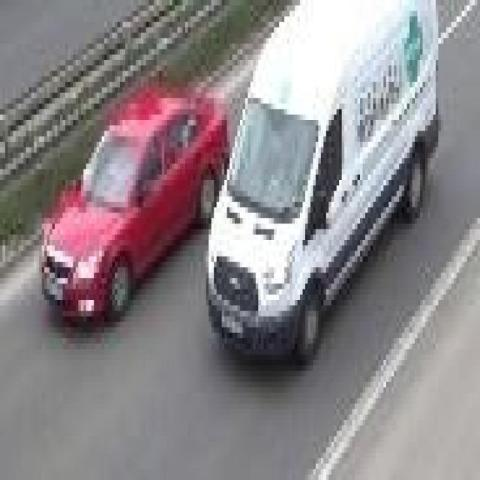car: (40, 85, 226, 325)
van: (209, 0, 439, 371)
